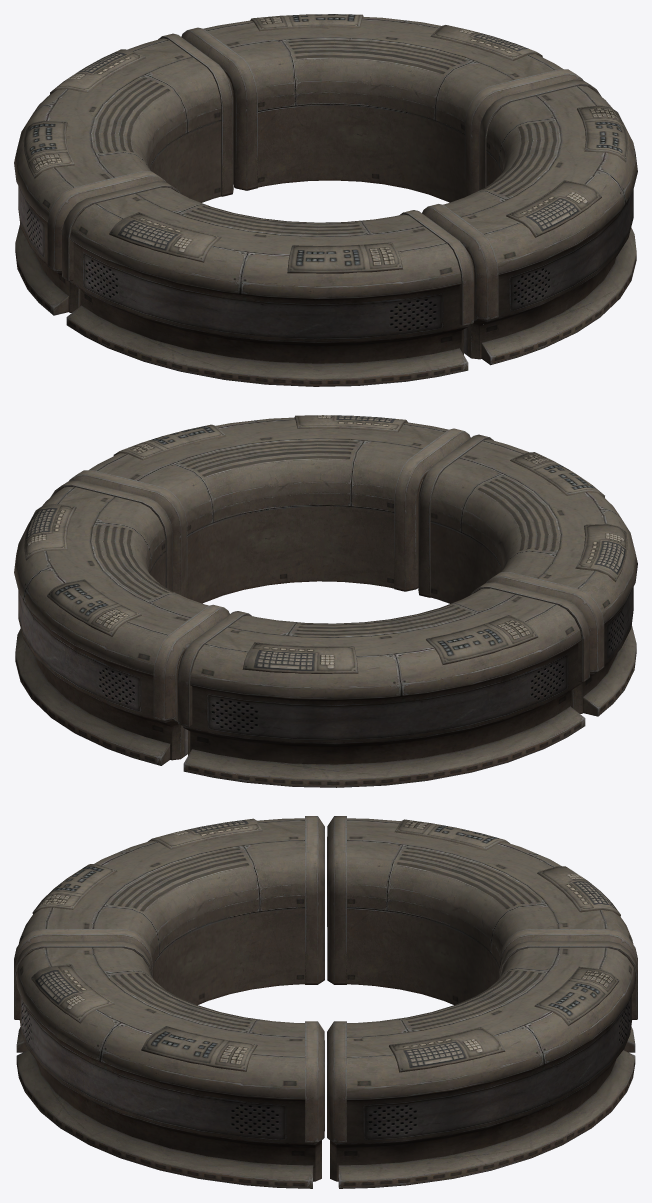
File: computer_lab_round_room.dae
3 renders of one model, top to bottom at view 1: azimuth 30°, elevation 25°; view 2: azimuth 150°, elevation 25°; view 3: azimuth 270°, elevation 25°, orthographic.
Parts seen in each view (by area): view 1: computer_lab_round_room; view 2: computer_lab_round_room; view 3: computer_lab_round_room.
Boxes of the visible parts, x1=… form: computer_lab_round_room: x1=14, y1=14, x2=637, y2=386; computer_lab_round_room: x1=14, y1=415, x2=637, y2=787; computer_lab_round_room: x1=14, y1=816, x2=637, y2=1188.
Size of the model in its own units: 5.15 by 1.1 by 5.15.
